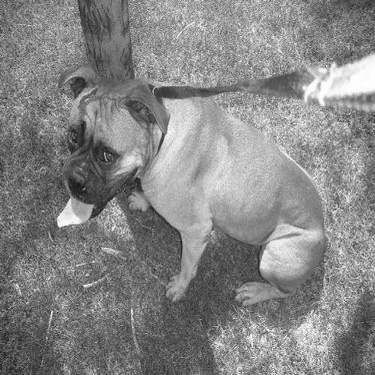dog: (40, 34, 373, 319)
